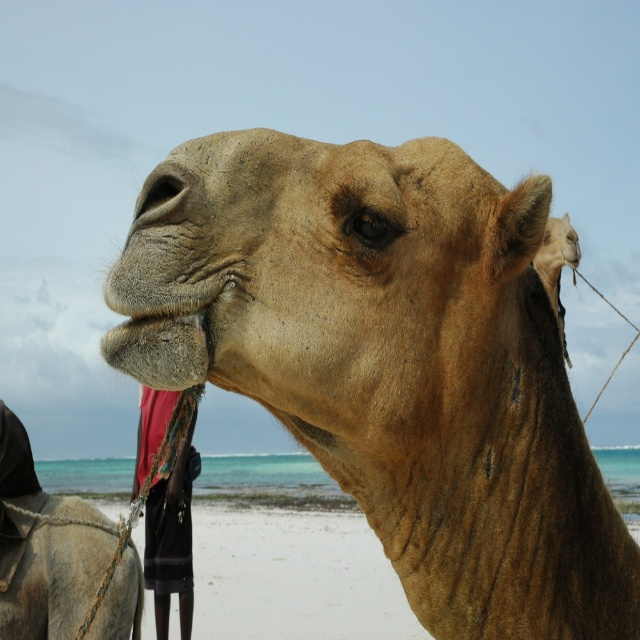Camel: (88, 126, 640, 639)
